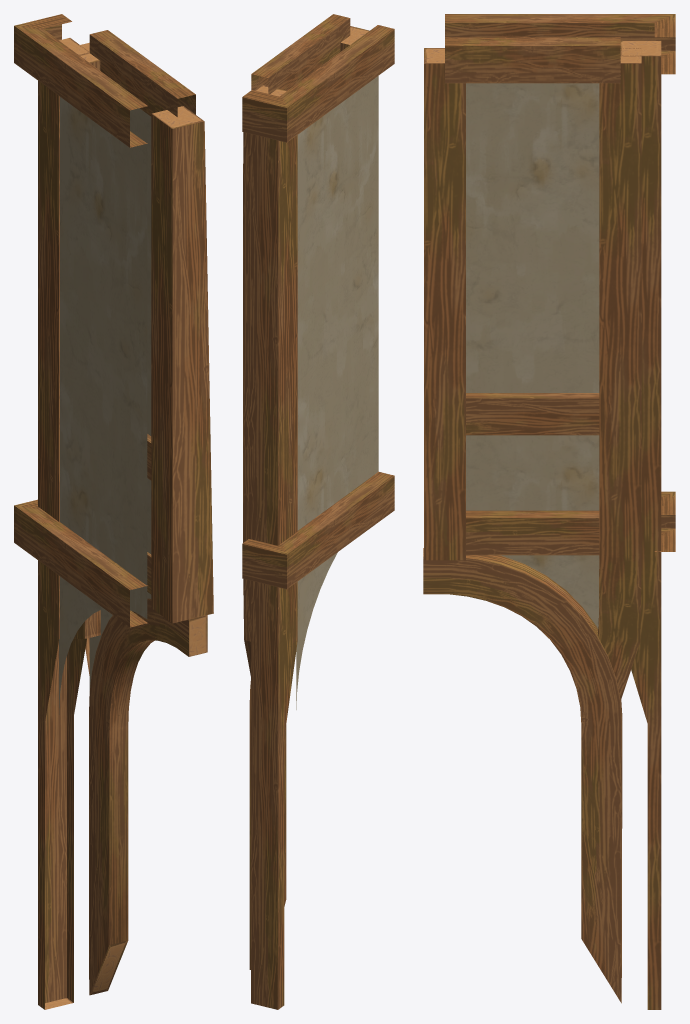
Rendered from Overhang_Side_Plaster_Short_R.gltf.
3 renders of one model, left to right at view 1: azimuth 30°, elevation 25°; view 2: azimuth 150°, elevation 25°; view 3: azimuth 270°, elevation 25°, orthographic. The views are drawn at different scales.
Visible parts, largest first — view 1: Overhang_Side_Plaster_Short_R; view 2: Overhang_Side_Plaster_Short_R; view 3: Overhang_Side_Plaster_Short_R.
Boxes of the visible parts, bbox=[...] form: Overhang_Side_Plaster_Short_R: bbox=[14, 14, 213, 1009]; Overhang_Side_Plaster_Short_R: bbox=[242, 14, 394, 1009]; Overhang_Side_Plaster_Short_R: bbox=[423, 14, 675, 1009].
Size of the model in its own units: 0.4793 by 6.12 by 1.44.
Materials: 2 (2 with a texture image).
